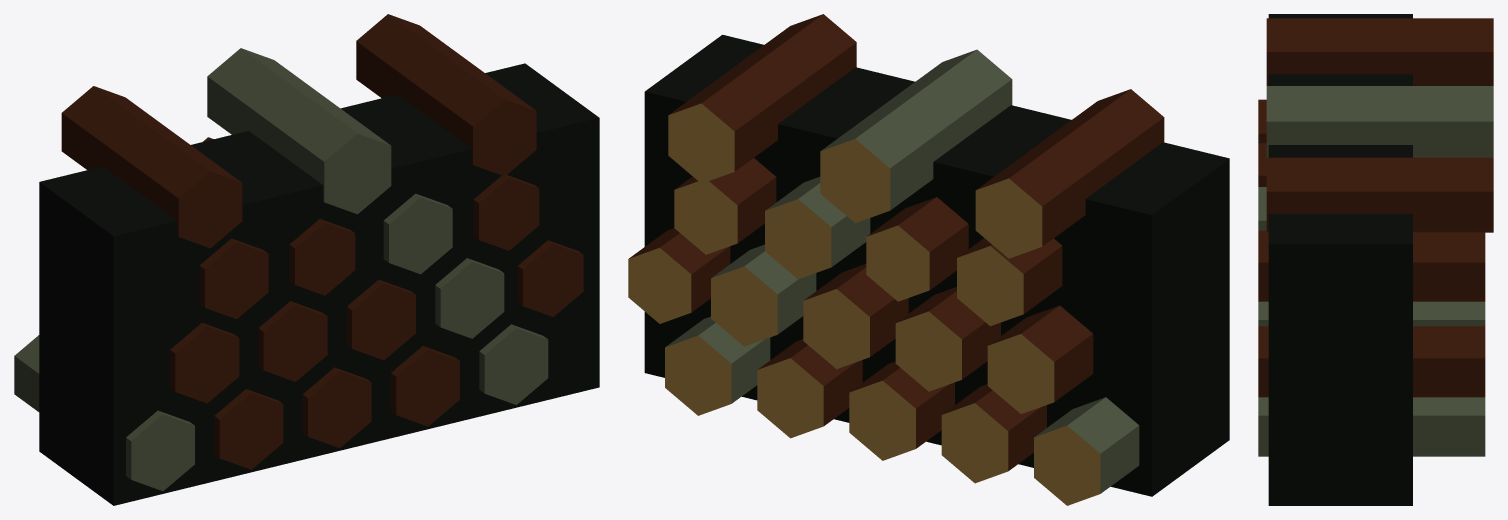
Rendered from SM_Woodpile.fbx.
3 views of the same model, side by side, from view 1: azimuth 30°, elevation 25°; view 2: azimuth 150°, elevation 25°; view 3: azimuth 270°, elevation 25° (orthographic). The views are drawn at different scales.
Visible parts, largest first — view 1: SM_Woodpile; view 2: SM_Woodpile; view 3: SM_Woodpile.
Part boxes in pixels (bbox=[...]): SM_Woodpile: bbox=[14, 14, 599, 505]; SM_Woodpile: bbox=[628, 14, 1229, 505]; SM_Woodpile: bbox=[1258, 14, 1493, 505].
Size of the model in its own units: 132 by 81.5 by 57.
